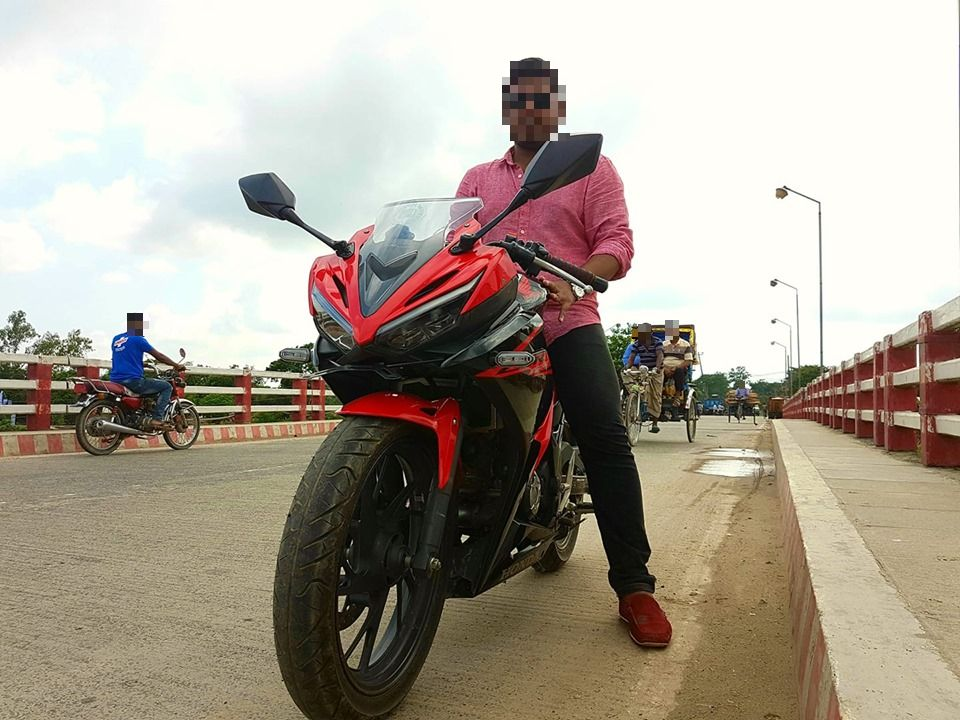bike: (232, 132, 683, 720), (70, 371, 209, 451)
rickshaw: (613, 320, 706, 441)
van: (724, 397, 759, 423)
